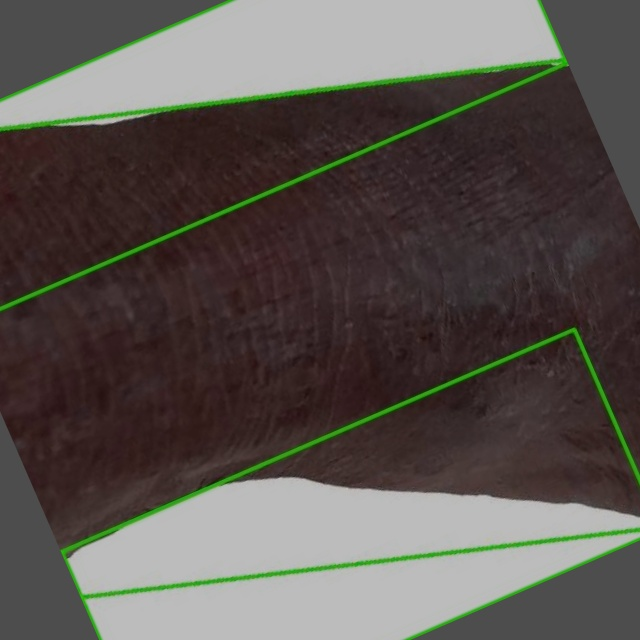Contact Dermatitis: (0, 93, 639, 562), (61, 329, 639, 639), (0, 0, 567, 308)
